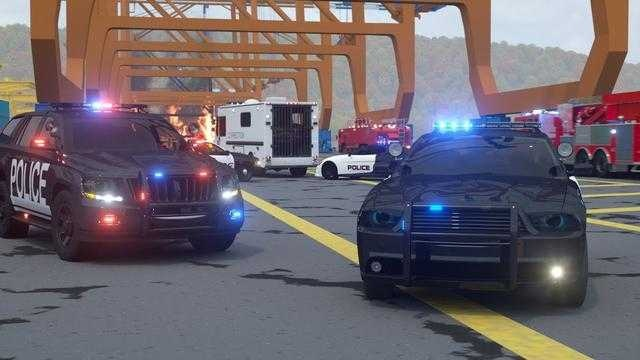Fire Truck: (530, 66, 640, 186), (315, 101, 439, 152)
Police Car: (362, 90, 632, 320), (8, 86, 251, 267)
